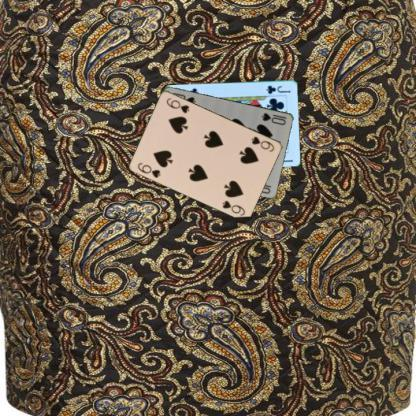10s: (259, 110, 287, 126)
6s: (135, 160, 162, 179), (249, 134, 276, 152)
Jc: (264, 82, 292, 94)
